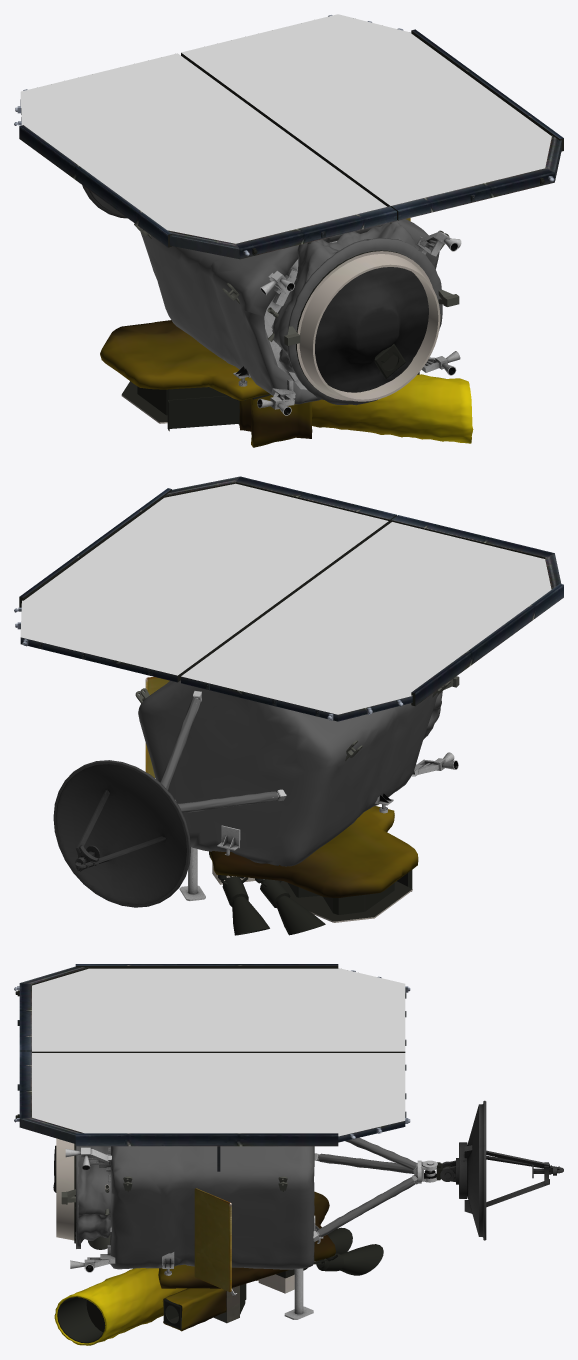
The model's file is deepimpact.glb.
3 views of the same model, one above another, from view 1: azimuth 30°, elevation 25°; view 2: azimuth 150°, elevation 25°; view 3: azimuth 270°, elevation 25° (orthographic). The views are drawn at different scales.
Visible parts, largest first — view 1: shiny_panels, tex_01, black_krinkle, foil_gold, foil_silver_I, hole_AO; view 2: shiny_panels, black_krinkle, tex_01, dish_AO, foil_gold, hole_AO; view 3: shiny_panels, black_krinkle, tex_01, foil_gold, dish_AO, hole_AO.
Boxes of the visible parts, x1,y1,x2,y2 form: shiny_panels: (20,14,551,243); tex_01: (14,15,563,431); black_krinkle: (140,219,442,405); foil_gold: (100,320,473,447); foil_silver_I: (315,267,428,392); hole_AO: (233,231,461,415); shiny_panels: (20,483,551,714); black_krinkle: (138,680,442,866); tex_01: (14,476,563,935); dish_AO: (53,760,190,907); foil_gold: (209,806,418,897); hole_AO: (175,691,458,900); shiny_panels: (32,968,405,1136); black_krinkle: (75,1137,415,1269); tex_01: (14,964,450,1343); foil_gold: (54,1191,335,1345); dish_AO: (440,1100,563,1240); hole_AO: (65,1147,437,1319).
Size of the model in its own units: 2.88 by 1.99 by 3.91.
Materials: 9 (6 with a texture image).
